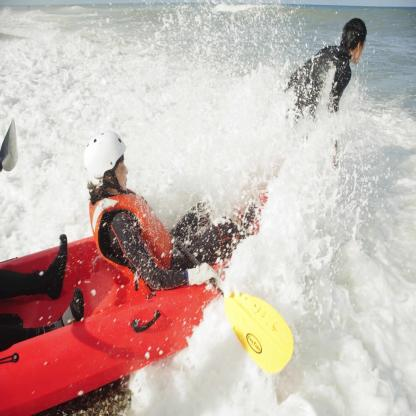Helmet: (81, 132, 129, 195)
